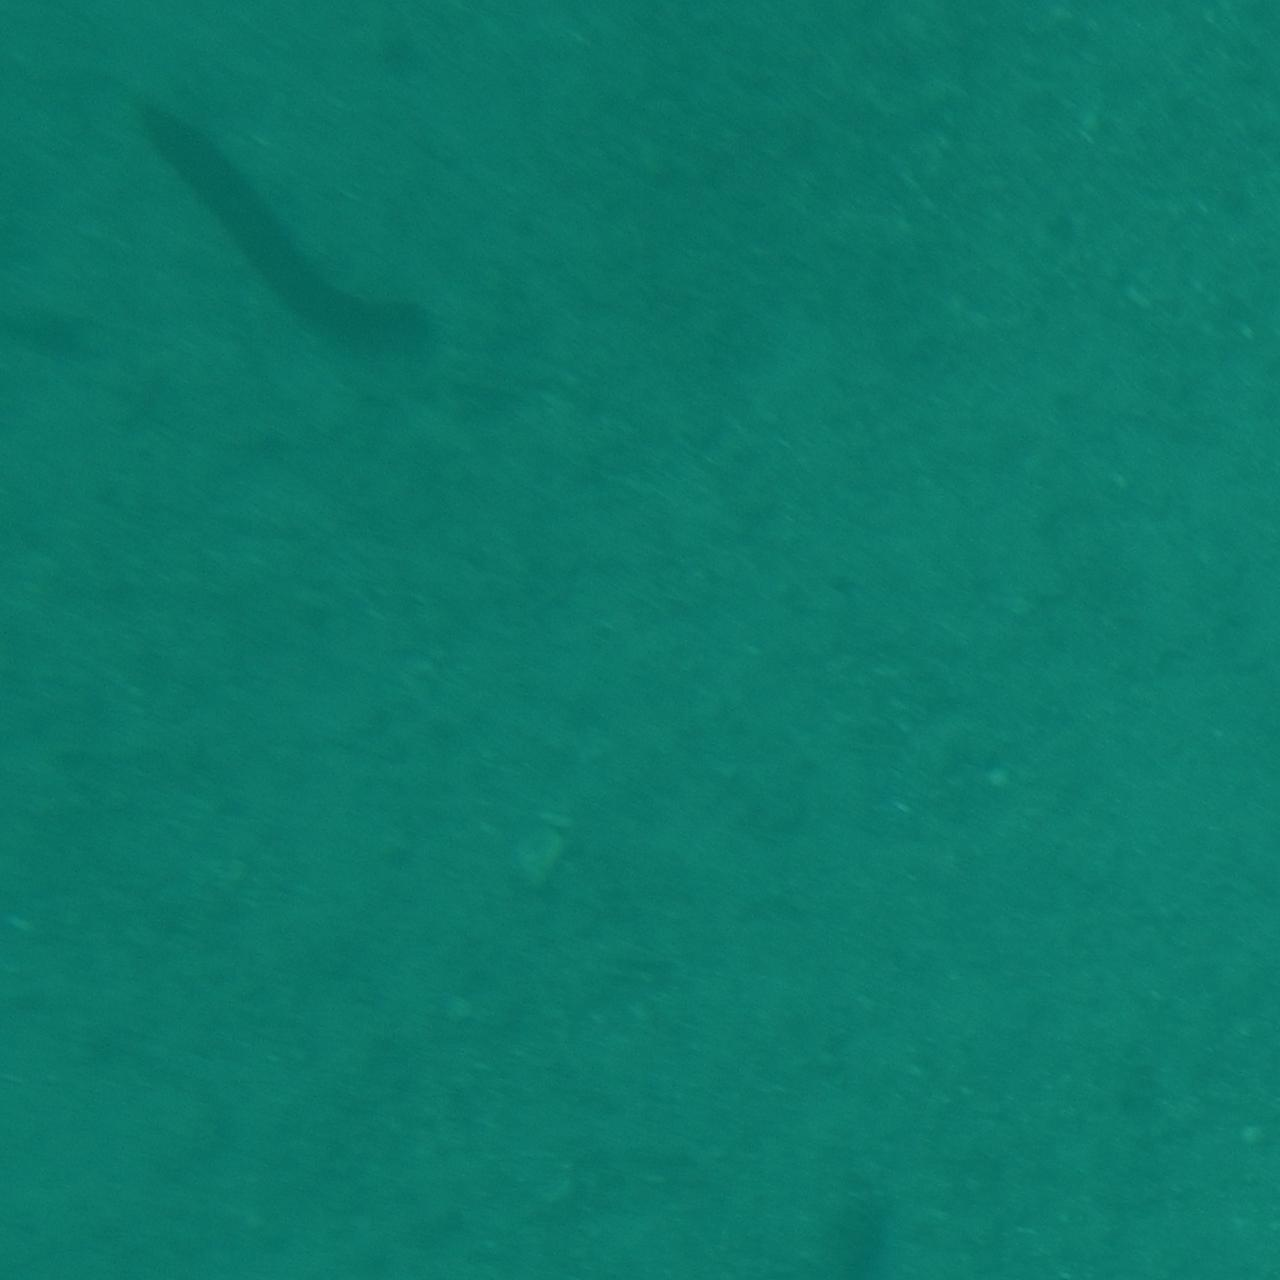Holothuria tubulosa: (105, 80, 450, 377)
